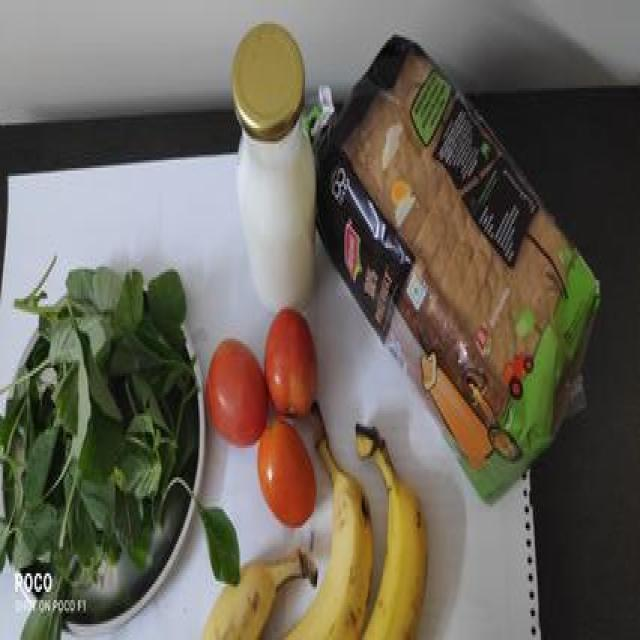Fresh_Spinach: (0, 229, 209, 606)
Fresh_tomato: (215, 318, 324, 494)
